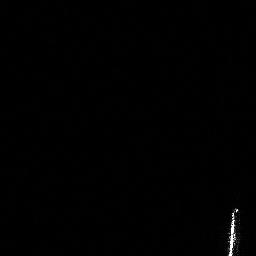ship: (222, 205, 244, 256)
